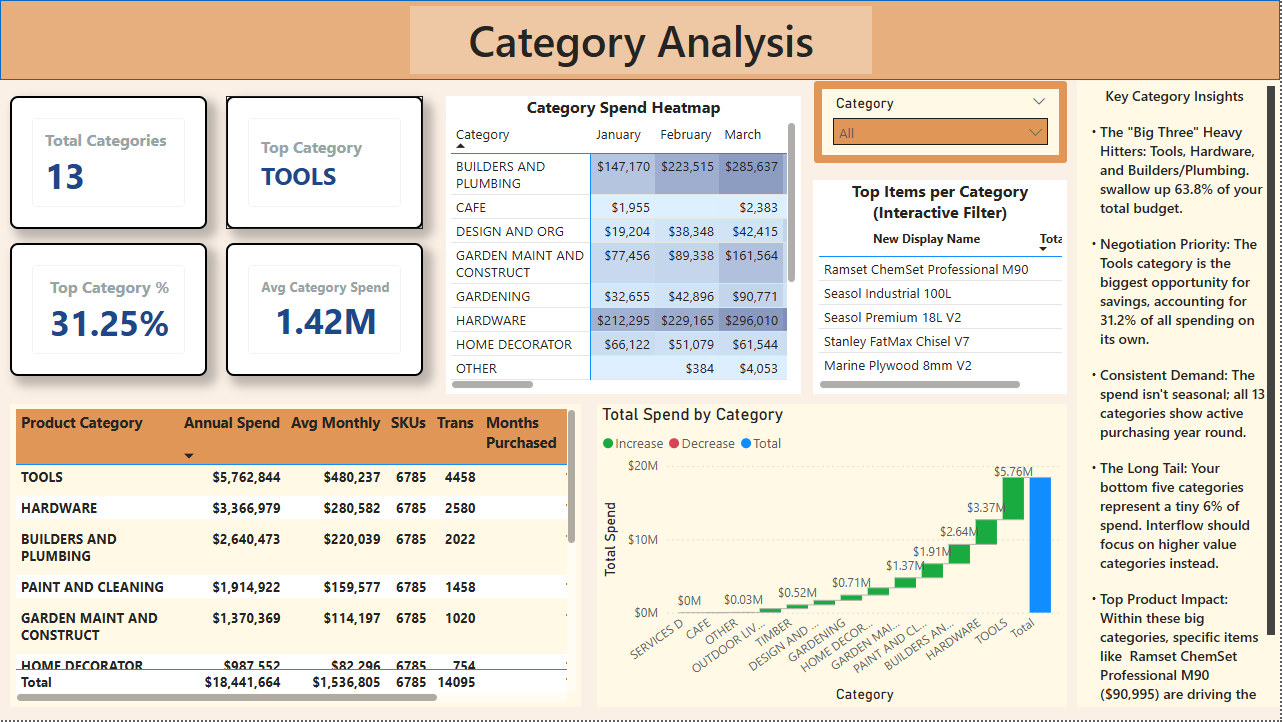

This screenshot's page, from the dashboard's own definition file:
{"tool":"powerbi","page":{"name":"Category Analysis","canvas":[1280,720],"ordinal":2},"visuals":[{"type":"shape","box":[0,0,1280,80],"z":0},{"type":"textbox","box":[409.8,5.8,461.8,67.8],"z":1000},{"type":"cardVisual","title":"States co","fields":{"Data":["_Measures.Total Categories"]},"box":[10,95.7,197.1,132.9],"z":2000},{"type":"cardVisual","fields":{"Data":["_Measures.Top Category"]},"box":[225.7,95.7,197.1,132.9],"z":3000},{"type":"cardVisual","fields":{"Data":["_Measures.Top Category %"]},"box":[10,242.9,197.1,132.9],"z":4000},{"type":"tableEx","fields":{"Values":["Fact_Purchases.Category","_Measures.Total Spend","_Measures.Avg Monthly Spend","_Measures.Unique Items","_Measures.Total Transactions","_Measures.Months Purchased","_Measures.% of Total Spend","_Measures.Category Trend"]},"box":[10,404.3,571.4,302.9],"z":5000},{"type":"cardVisual","fields":{"Data":["_Measures.Avg Category Spend"]},"box":[225.7,242.9,197.1,132.9],"z":6000},{"type":"waterfallChart","fields":{"Y":["_Measures.Total Spend"],"Category":["Dim_Items.Category"]},"box":[597.1,404.3,470,302.9],"z":7000},{"type":"pivotTable","title":" Category Spend Heatmap","fields":{"Rows":["Fact_Purchases.Category"],"Columns":["Dim_Date.Month Name"],"Values":["_Measures.Total Spend"]},"box":[445.7,95.7,355.7,298.6],"z":8000},{"type":"slicer","fields":{"Values":["Fact_Purchases.Category"]},"box":[814.3,81.4,252.9,81.4],"z":9000},{"type":"tableEx","title":"Top Items per Category (Interactive Filter)","fields":{"Values":["Item_Mapping.New Display Name","_Measures.Total Spend"]},"box":[812.9,180,254.3,214.3],"z":10000},{"type":"textbox","box":[1077.1,81.4,202.9,625.7],"z":11000}]}

Visuals, with their boxes in screenshot pixels (x1, y1, x2, y2), scaled from the page's 1280x720 canvas onto the 1283x722 screenshot:
shape: (x1=0, y1=0, x2=1282, y2=80)
textbox: (x1=411, y1=6, x2=874, y2=74)
"States co" cardVisual: (x1=10, y1=96, x2=208, y2=229)
cardVisual - _Measures.Top Category: (x1=226, y1=96, x2=424, y2=229)
cardVisual - _Measures.Top Category %: (x1=10, y1=244, x2=208, y2=377)
tableEx - Fact_Purchases.Category x _Measures.Total Spend: (x1=10, y1=405, x2=583, y2=709)
cardVisual - _Measures.Avg Category Spend: (x1=226, y1=244, x2=424, y2=377)
waterfallChart - _Measures.Total Spend x Dim_Items.Category: (x1=598, y1=405, x2=1070, y2=709)
" Category Spend Heatmap" pivotTable: (x1=447, y1=96, x2=803, y2=395)
slicer - Fact_Purchases.Category: (x1=816, y1=82, x2=1070, y2=163)
"Top Items per Category (Interactive Filter)" tableEx: (x1=815, y1=180, x2=1070, y2=395)
textbox: (x1=1080, y1=82, x2=1282, y2=709)
